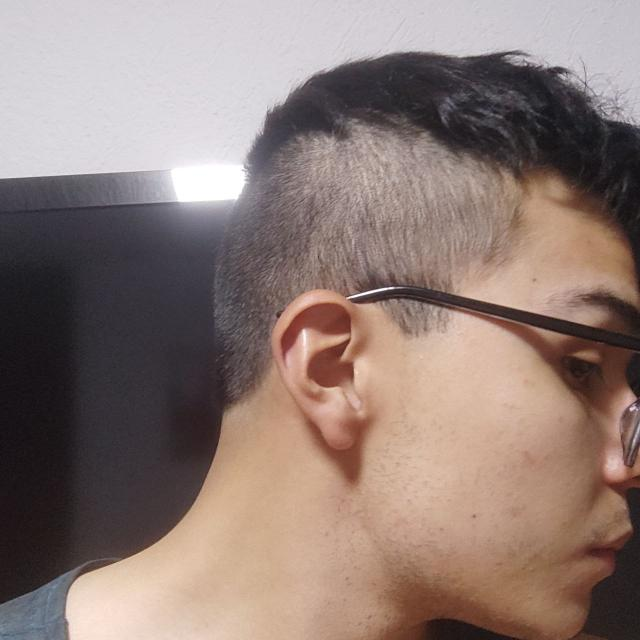ear: (272, 290, 368, 450)
